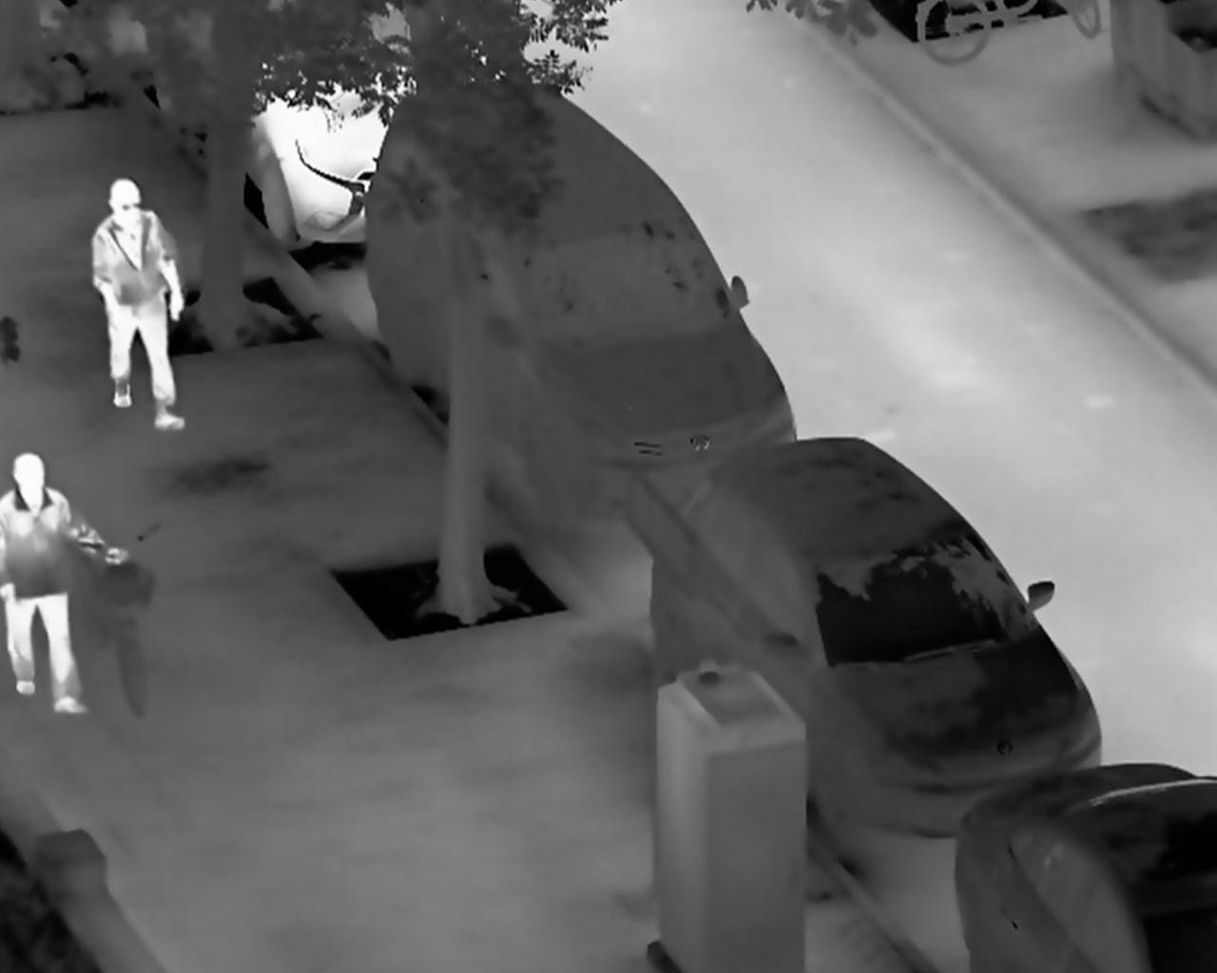person: (87, 177, 190, 434)
